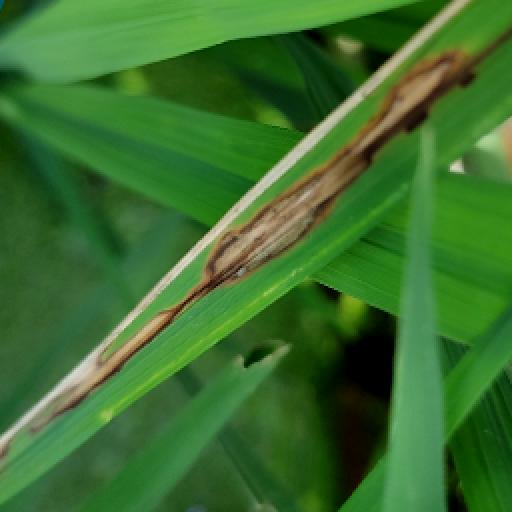Leaf Blast Disease: (140, 30, 508, 308), (0, 304, 190, 472)
